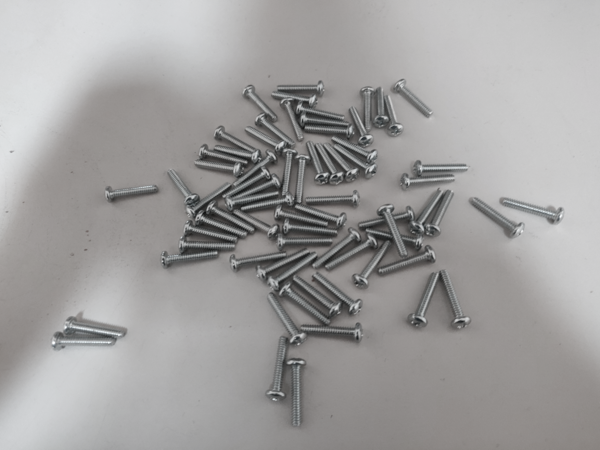longscrew: (471, 197, 523, 242), (355, 240, 398, 288), (293, 276, 341, 319), (327, 234, 376, 276), (262, 293, 302, 344), (314, 224, 361, 267), (315, 273, 363, 315), (279, 285, 327, 327), (269, 250, 319, 289), (442, 266, 471, 332), (378, 245, 435, 278), (502, 196, 562, 226), (414, 271, 445, 328), (256, 247, 310, 279), (378, 203, 408, 258), (394, 81, 436, 117), (226, 174, 282, 201), (205, 203, 255, 233), (196, 209, 246, 239), (267, 338, 288, 408), (302, 323, 363, 347), (426, 191, 458, 236), (412, 187, 444, 232), (51, 333, 112, 356), (233, 150, 274, 184), (288, 359, 308, 428), (224, 169, 270, 199), (184, 187, 230, 217), (64, 319, 125, 341), (333, 146, 376, 177), (162, 246, 217, 270), (359, 206, 416, 229), (322, 145, 358, 181), (242, 84, 279, 119), (363, 228, 425, 248), (289, 204, 347, 225), (315, 143, 343, 185), (235, 210, 277, 238), (332, 137, 378, 162), (167, 169, 198, 206), (272, 207, 330, 226), (230, 250, 285, 270), (289, 154, 310, 206), (217, 128, 259, 154), (177, 233, 234, 252), (257, 114, 294, 143), (278, 147, 298, 199), (191, 157, 243, 177), (198, 145, 249, 165), (281, 96, 303, 142), (348, 106, 373, 146), (224, 190, 279, 208), (241, 196, 295, 214), (184, 221, 234, 240), (305, 192, 362, 208), (106, 185, 163, 201), (413, 161, 469, 177), (399, 175, 455, 191), (243, 127, 283, 149), (306, 142, 325, 187), (211, 143, 259, 160), (275, 80, 325, 96), (278, 234, 332, 248), (284, 223, 338, 237), (269, 92, 319, 107), (296, 102, 346, 117), (299, 115, 349, 130), (305, 124, 355, 139), (374, 81, 390, 126), (362, 86, 377, 131), (386, 95, 401, 140)
